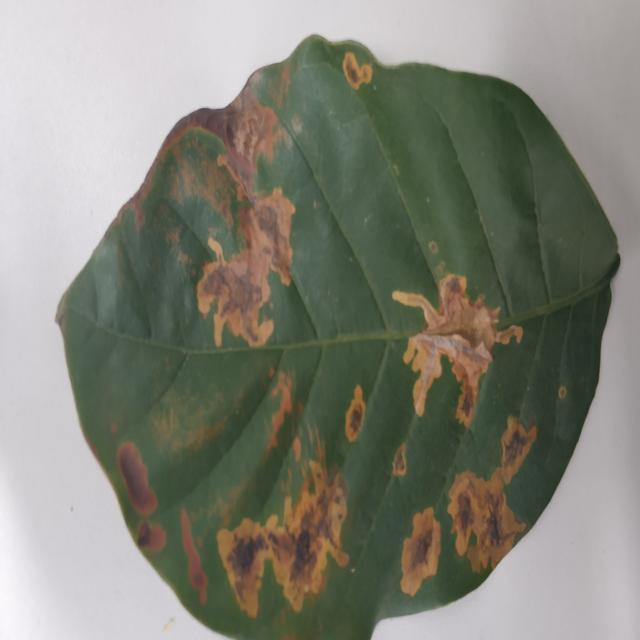Plaga-Minador: (55, 36, 621, 640)
